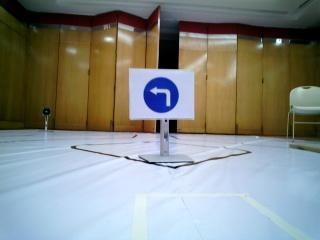left: (133, 70, 195, 118)
